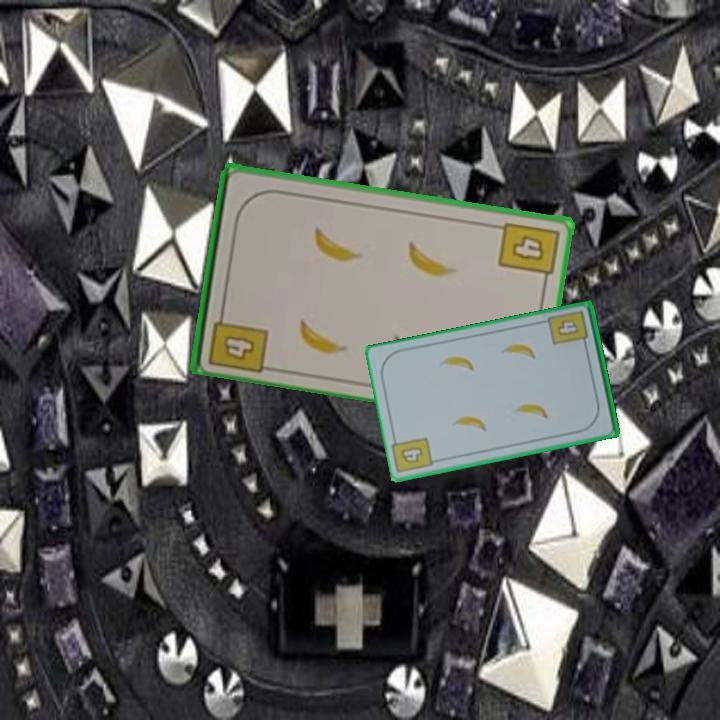4b: (204, 303, 271, 375), (494, 218, 562, 287), (545, 307, 591, 351), (397, 443, 425, 467)
